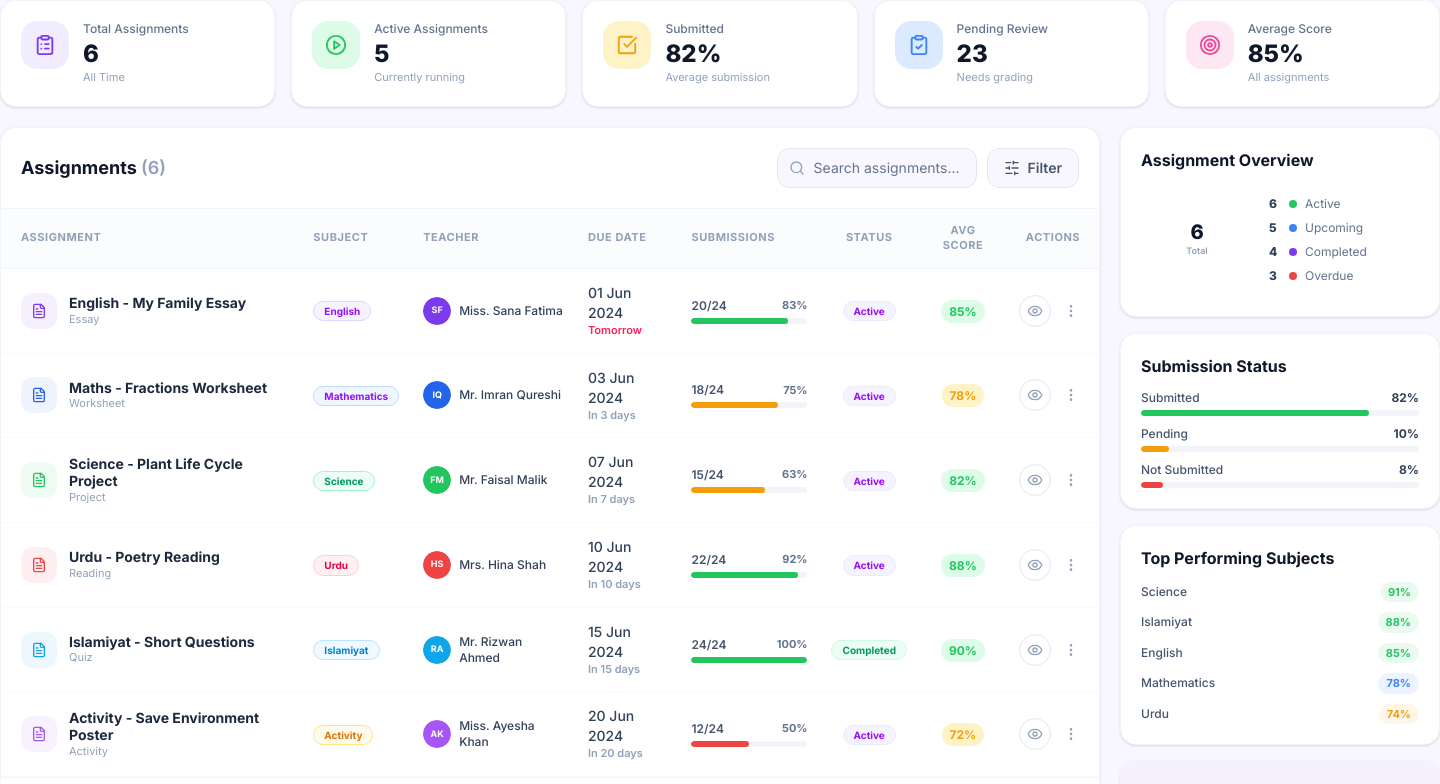
Scenario: AssignmentsPro › filters assignments via the search box
Type "fractions" into the field with placeholder "Search assignments...".
click(877, 168); type("fractions")  # box [777,148,977,188]
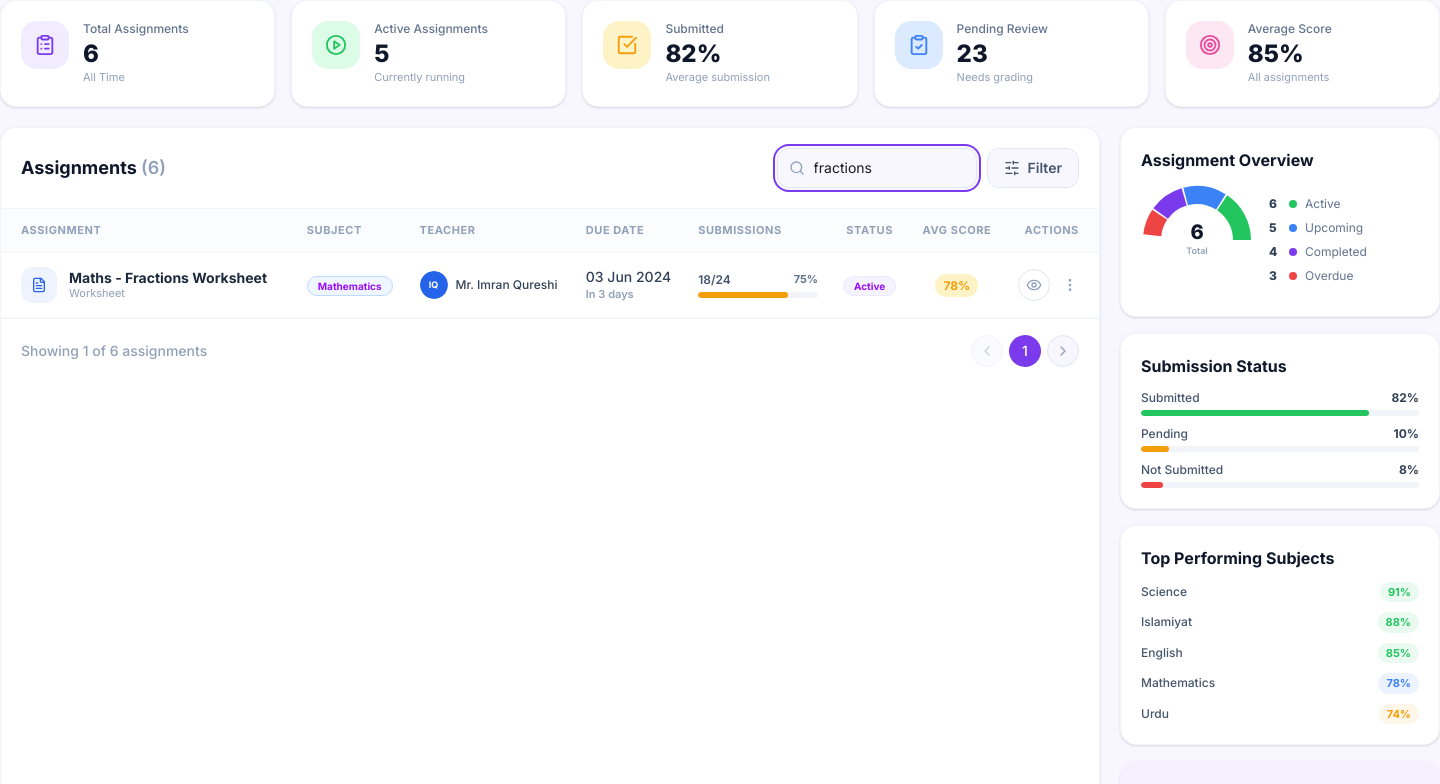
Expected: the text "Maths - Fractions Worksheet" is shown, [69,269,267,286]
Expected: the text "English - My Family Essay" is gone
